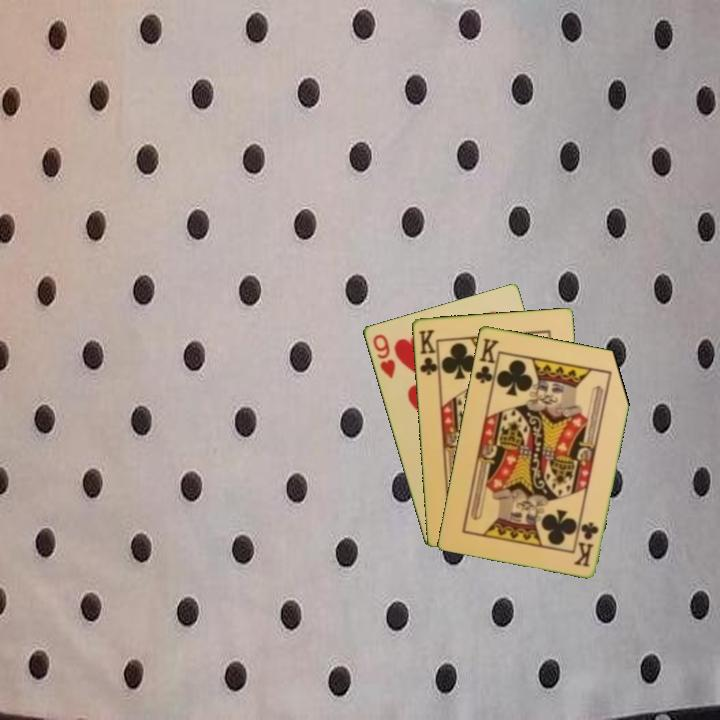9h: (369, 330, 398, 381)
Kc: (471, 335, 501, 390), (571, 518, 601, 569), (415, 326, 441, 379)
